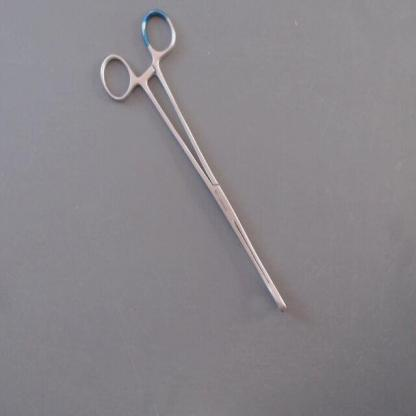Sponge Forceps: (93, 0, 297, 322)
